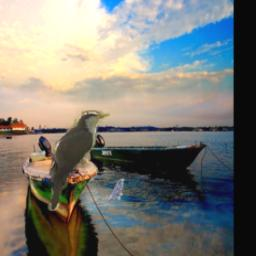Crow: (107, 179, 123, 203)
Cuckoo: (48, 111, 111, 212)
